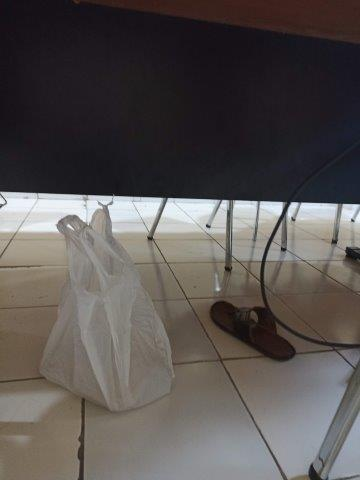plastik: (38, 208, 176, 410)
